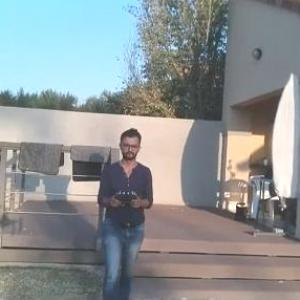follow: (92, 121, 158, 299)
